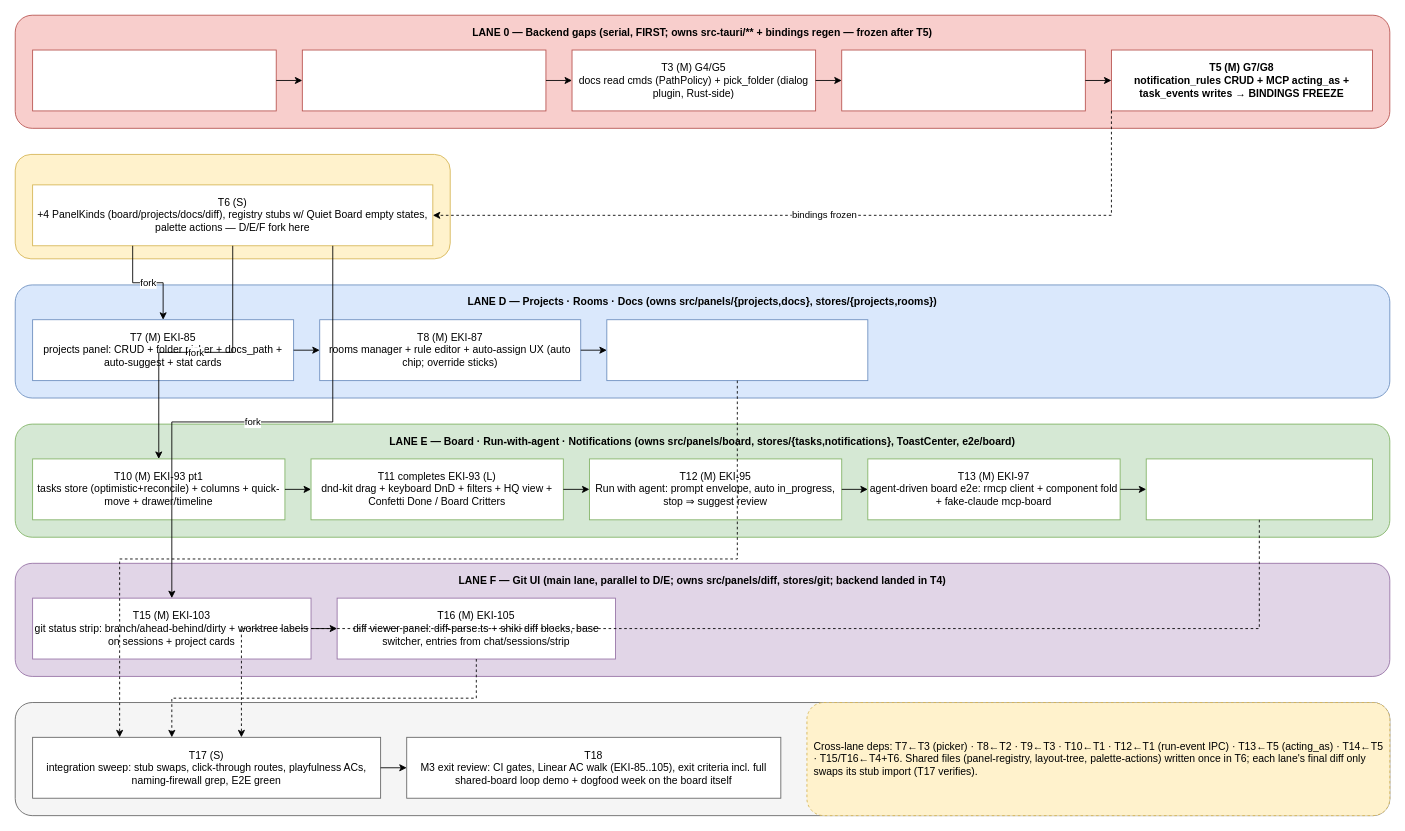
This 1405x831 diagram has some shape labels left out. The box of each missing label's shape, as (x1, y1, x2, y2) in pixels:
CLOSING (after all lanes merge): (14, 702, 1390, 816)
MAIN LANE — registry pre-seed (then src/app/** frozen for M3): (14, 154, 450, 259)
T1 (M) G1/G3 task_events store + writes + get_task + run-event IPC: (32, 49, 276, 111)
T14 (S) EKI-99 notification rules + ToastCenter + click-through + per-rule mute: (1145, 458, 1372, 520)
T2 (M) G2 room_rules CRUD + assign_room evaluator on Discovered: (301, 49, 546, 111)
T4 (M) G6 git module: status/diff/worktrees, fixed argv, caps: (841, 49, 1085, 111)
T9 (M) EKI-89 docs panel: tree + markdown + images via Rust cmds + link nav: (606, 319, 868, 381)
